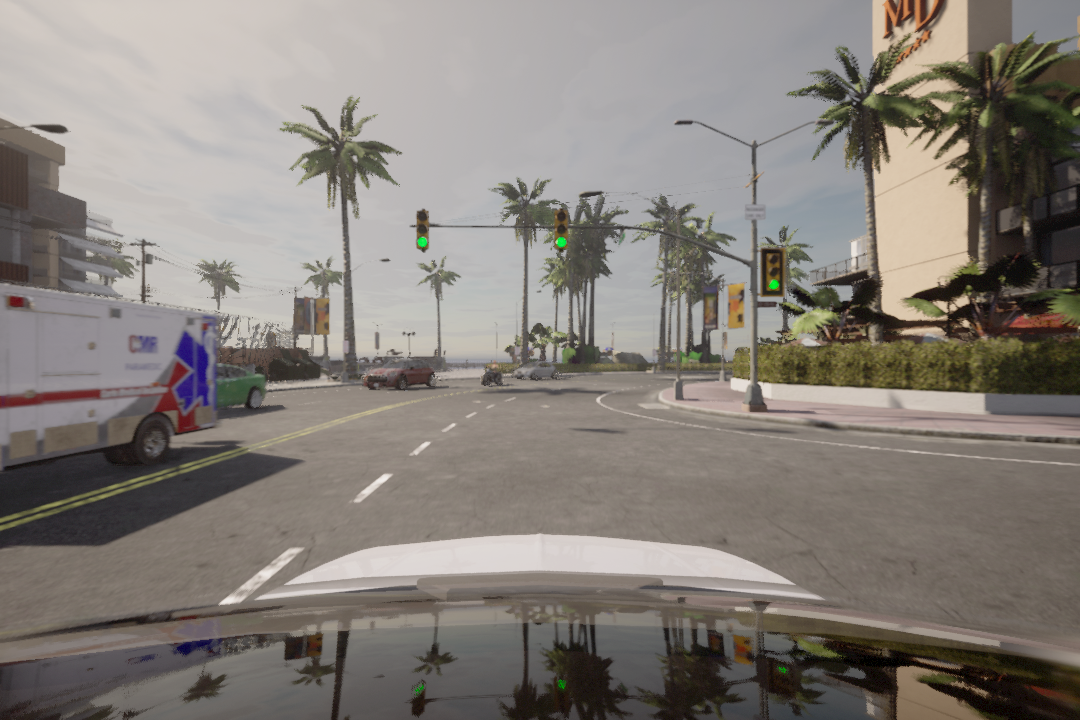TrafficLight: (764, 247, 782, 296), (552, 207, 569, 253), (414, 211, 432, 250)
